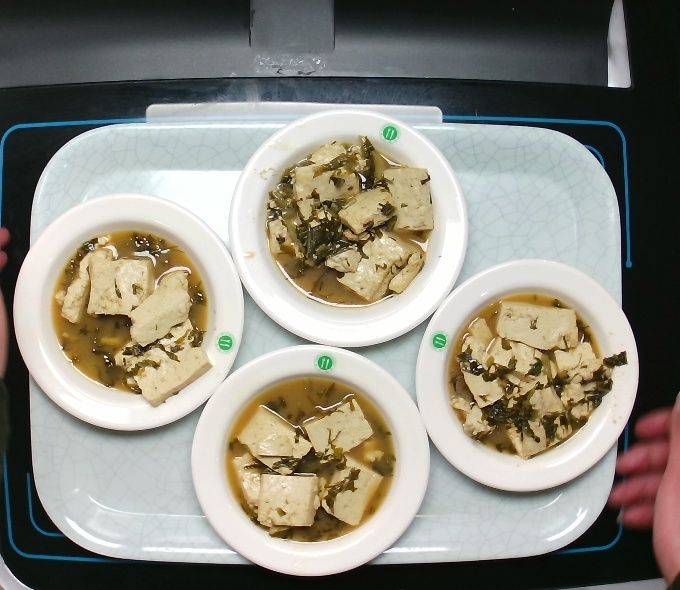wcq-XueCaiDouFu: (263, 133, 436, 308), (223, 372, 398, 545), (443, 289, 610, 459), (48, 230, 209, 397)
